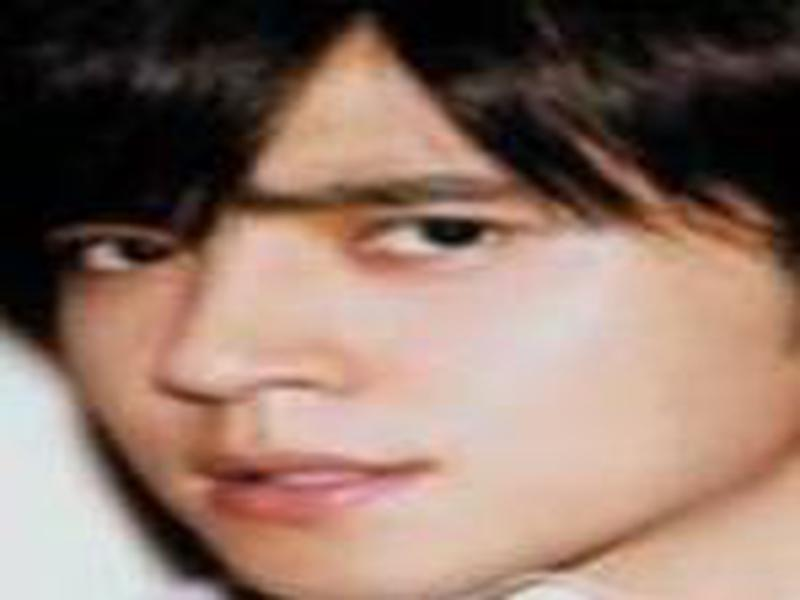without_mask: (43, 84, 800, 591)
